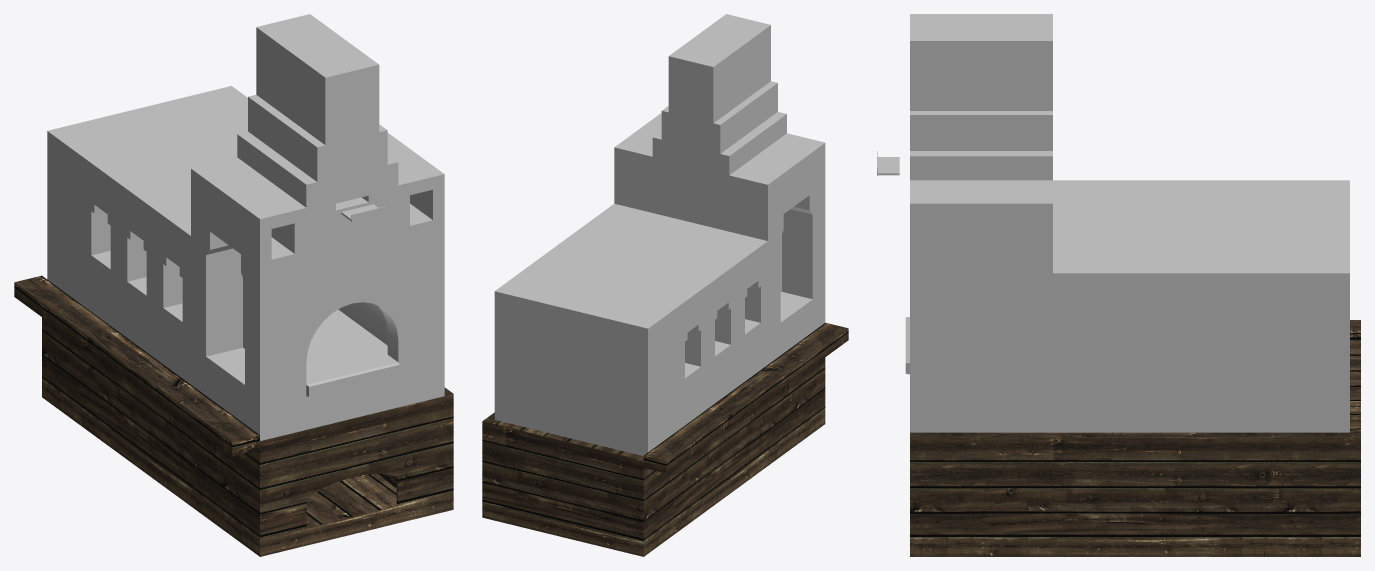
The model's file is Furnace.FBX.
3 views of the same model, side by side, from view 1: azimuth 30°, elevation 25°; view 2: azimuth 150°, elevation 25°; view 3: azimuth 270°, elevation 25° (orthographic). The views are drawn at different scales.
Visible parts, largest first — view 1: Furnace, Furnace Place; view 2: Furnace, Furnace Place; view 3: Furnace, Furnace Place.
Part boxes in pixels (x1,y1,x2,y2): Furnace: [47, 14, 444, 440]; Furnace Place: [14, 275, 453, 556]; Furnace: [494, 14, 825, 455]; Furnace Place: [482, 322, 848, 556]; Furnace: [905, 14, 1349, 432]; Furnace Place: [910, 320, 1360, 556].
Size of the model in its own units: 120 by 240 by 220.
